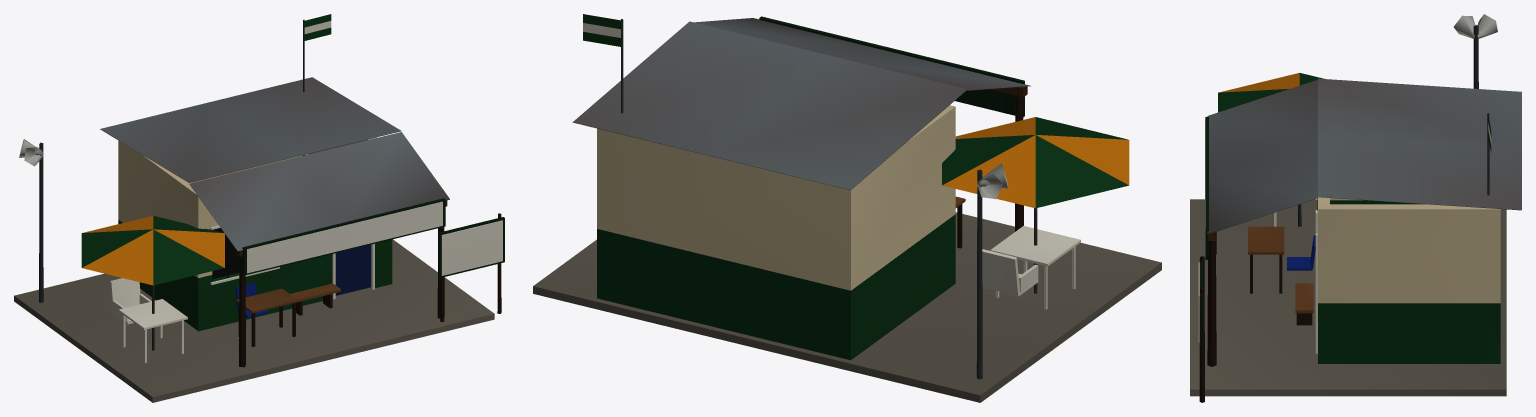
Rendered from pk_office_lod1.glb.
3 renders of one model, left to right at view 1: azimuth 30°, elevation 25°; view 2: azimuth 150°, elevation 25°; view 3: azimuth 270°, elevation 25°, orthographic. The views are drawn at different scales.
Parts seen in each view (by area): view 1: pk_office_lod1; view 2: pk_office_lod1; view 3: pk_office_lod1.
Boxes of the visible parts, x1,y1,x2,y2 form: pk_office_lod1: [14, 14, 504, 402]; pk_office_lod1: [533, 14, 1161, 402]; pk_office_lod1: [1190, 14, 1521, 402].
Size of the model in its own units: 8.21 by 4.52 by 5.45.
